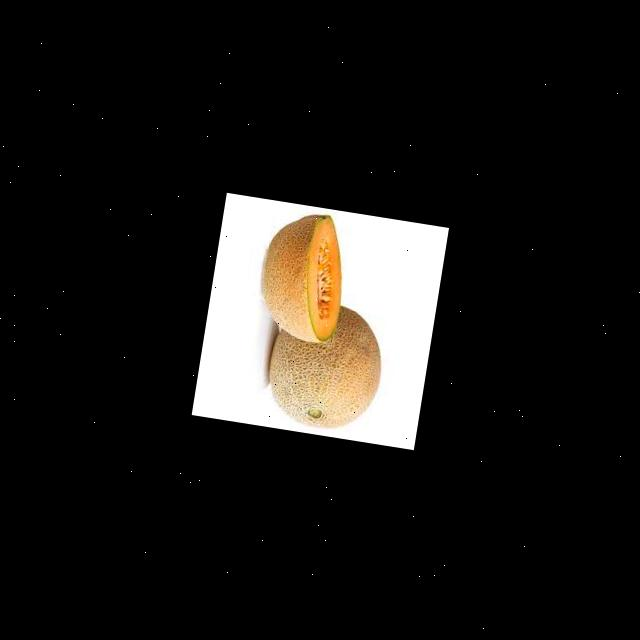Hami Melon: (261, 296, 391, 436), (253, 205, 354, 344)
